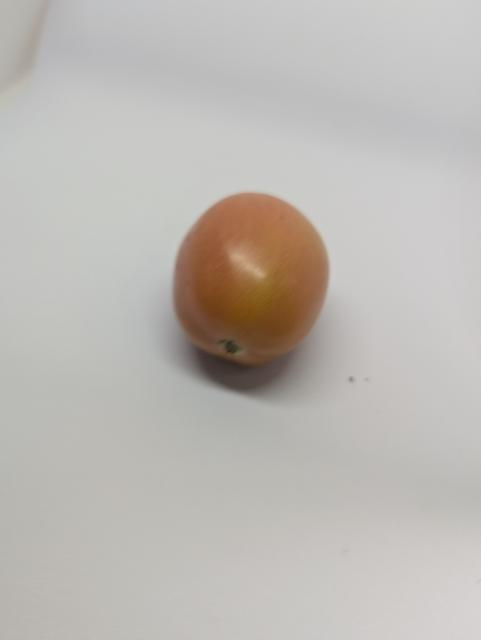turning: (164, 183, 338, 374)
